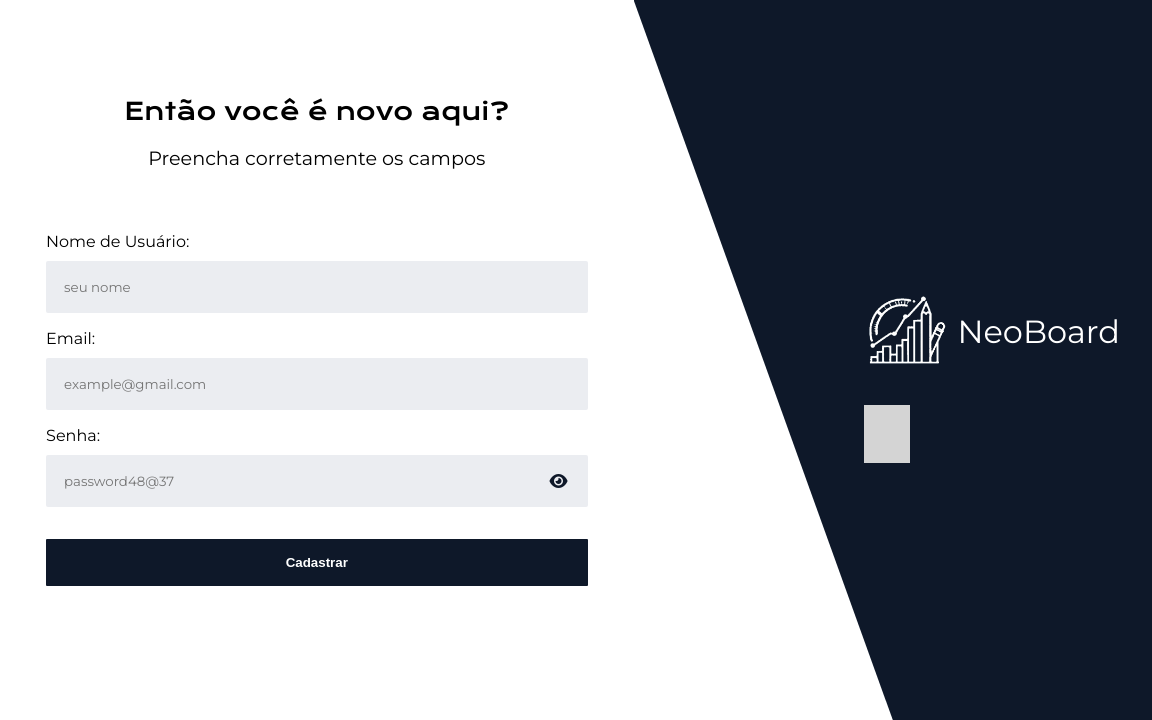
Test case: Teste de carregamento da página de login › Test error email not filled out correctly
Type "Alcemir" into the field with class "user".
click(317, 287); type("Alcemir")  # box [46,261,587,313]
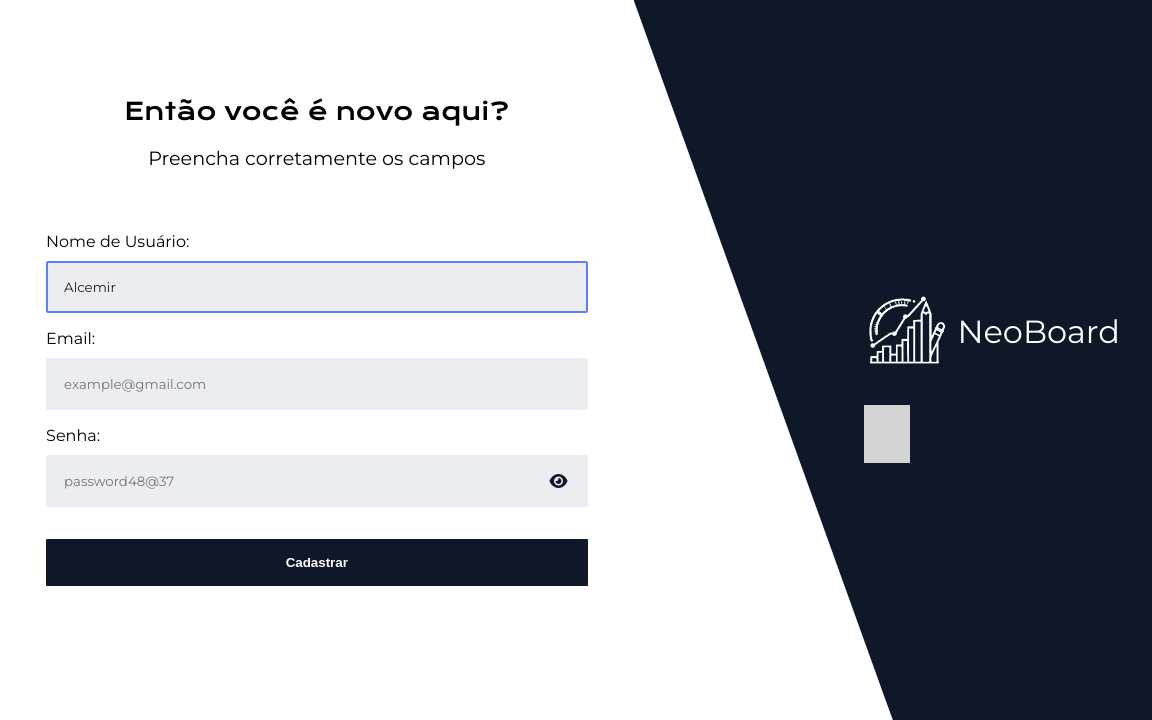
Type "emailerror@gmail" into the field with class "email".
click(317, 384); type("emailerror@gmail")  # box [46,358,587,410]
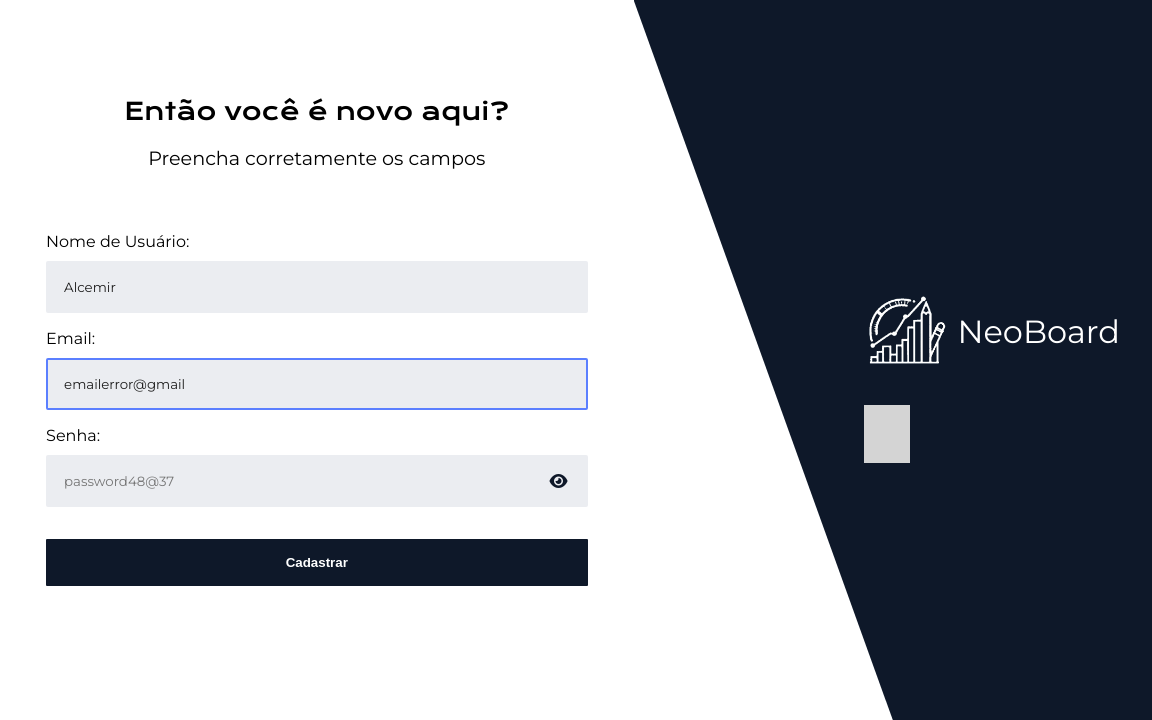
Type "alcemir123" into the password field with placeholder "password48@37".
click(317, 481); type("alcemir123")  # box [46,455,587,507]
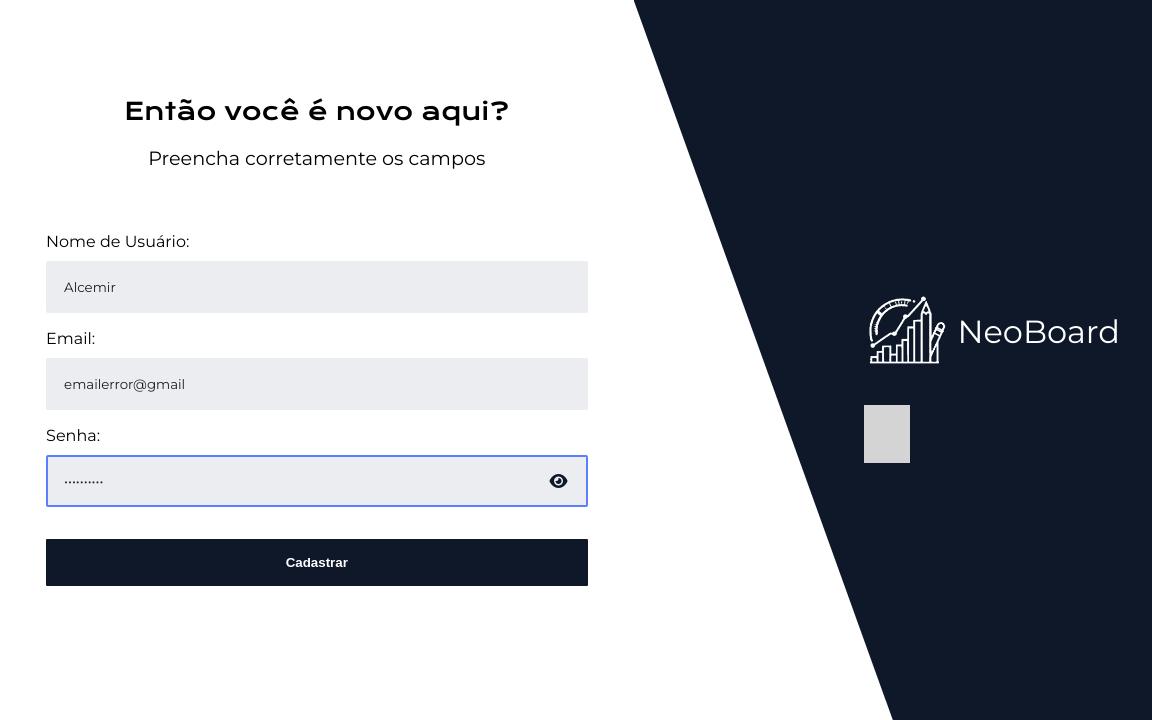
Click the button with class "singup-btn".
click(317, 563)  # box [46,539,587,586]
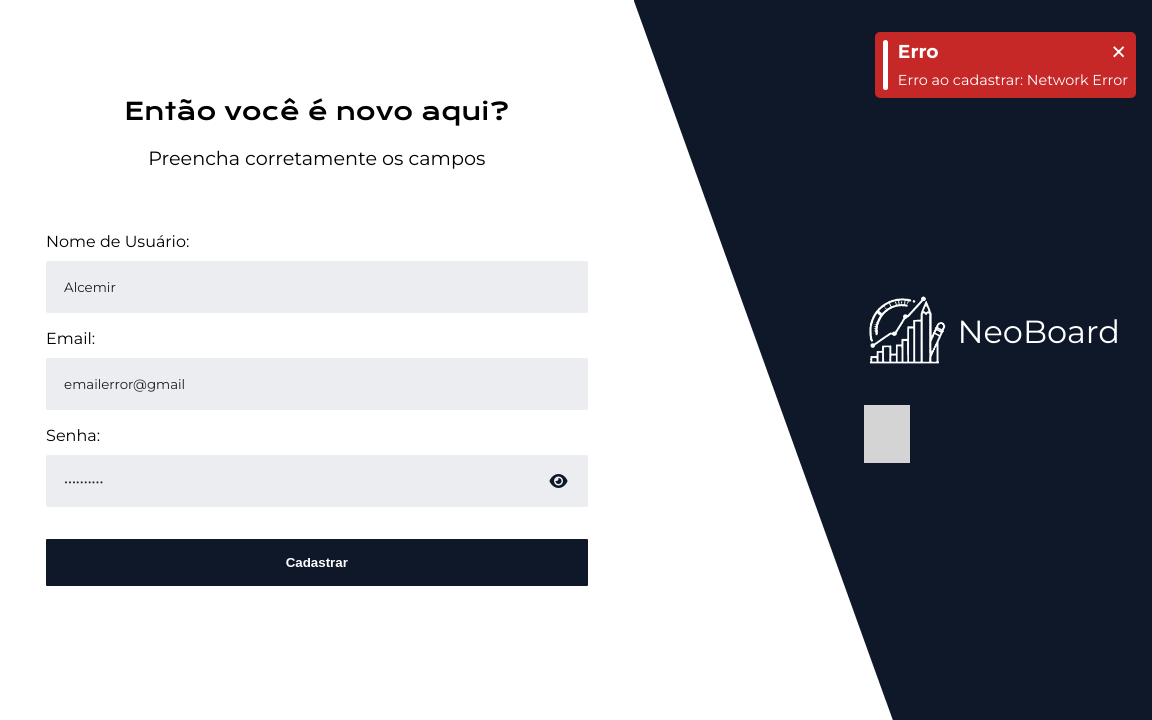
Expected: the heading "Erro" is shown, [898,40,1128,63]
